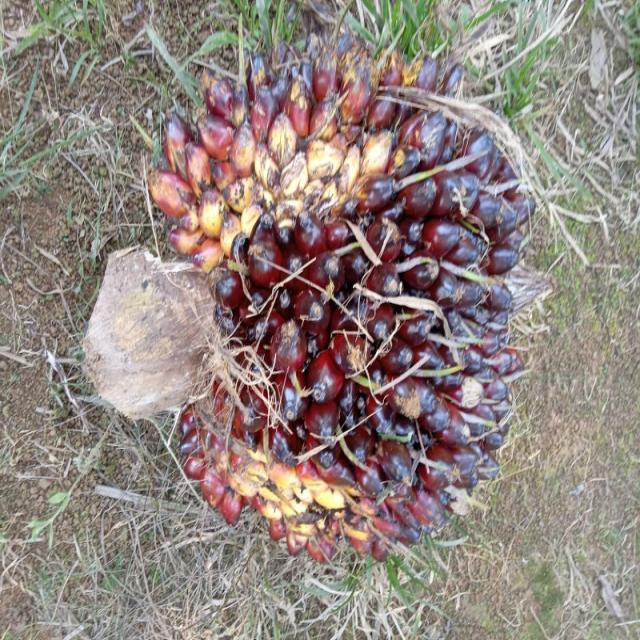fraksi 1: (142, 46, 528, 569)
